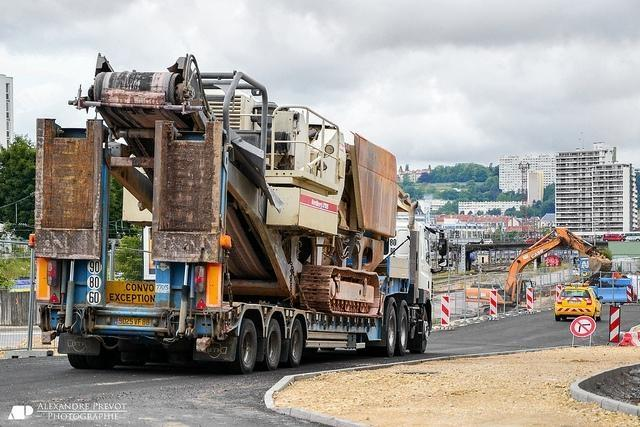car: (554, 280, 604, 324), (465, 283, 504, 304)
truck: (31, 58, 432, 382)
